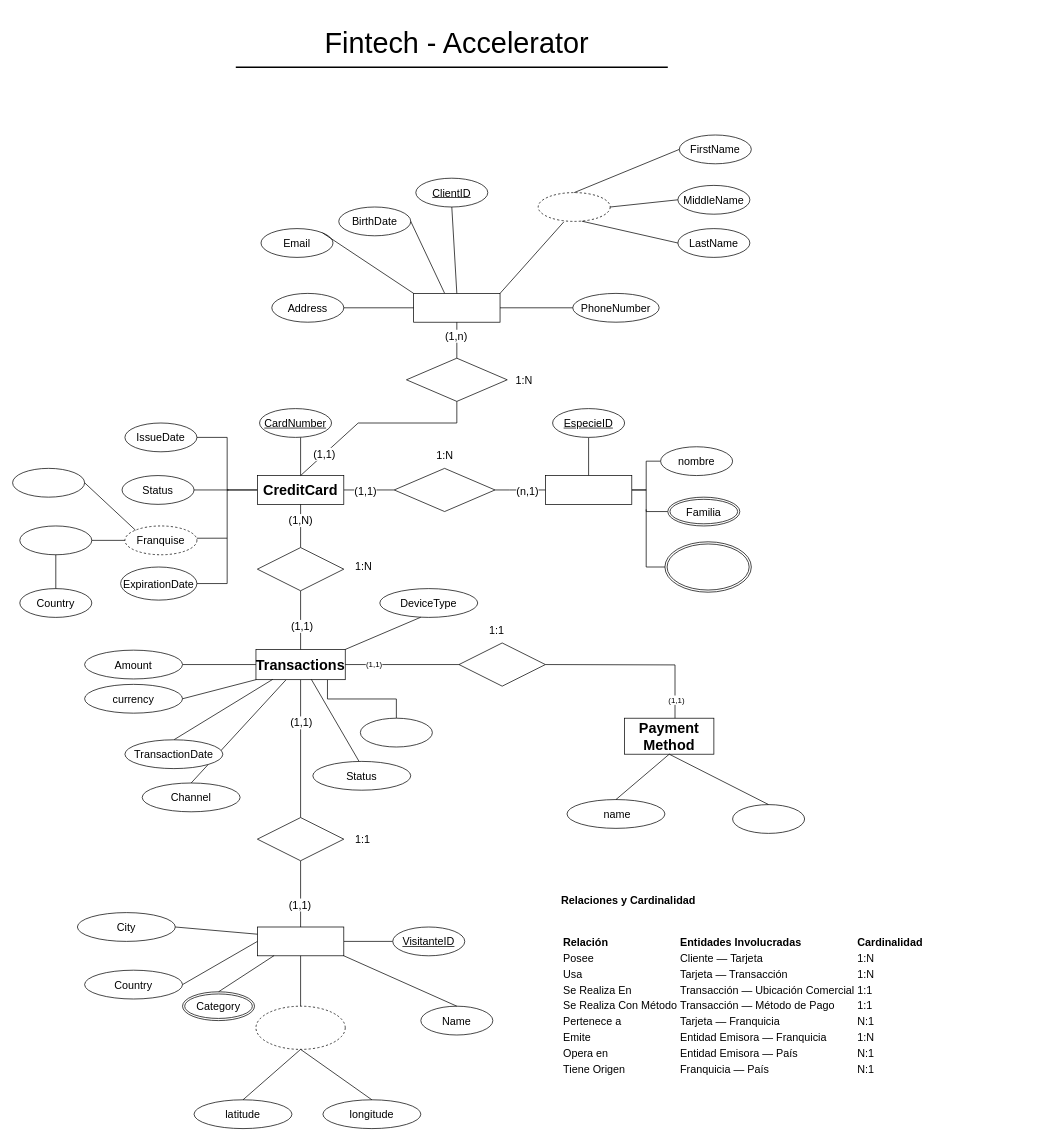
The diagram is 1048 pixels wide and 1141 high, and some of its shapes have lost their labels. Here are the shapes that lost their labels. From the top down, the box of each, then its label:
(537, 192, 610, 221): FullName
(413, 293, 500, 322): Clients
(406, 357, 507, 401): has
(12, 468, 85, 497): CountryOrigin
(393, 468, 495, 512): pertenece
(545, 475, 632, 504): Especies
(19, 525, 92, 555): IssueBanker
(257, 547, 344, 591): register
(664, 541, 751, 592): estado Conservación
(458, 642, 545, 686): used
(360, 717, 432, 747): TransactionID
(732, 804, 805, 833): PaymentID
(257, 817, 344, 861): linked
(257, 926, 344, 956): Commerce
(255, 1005, 345, 1049): Geographic Coordinates
